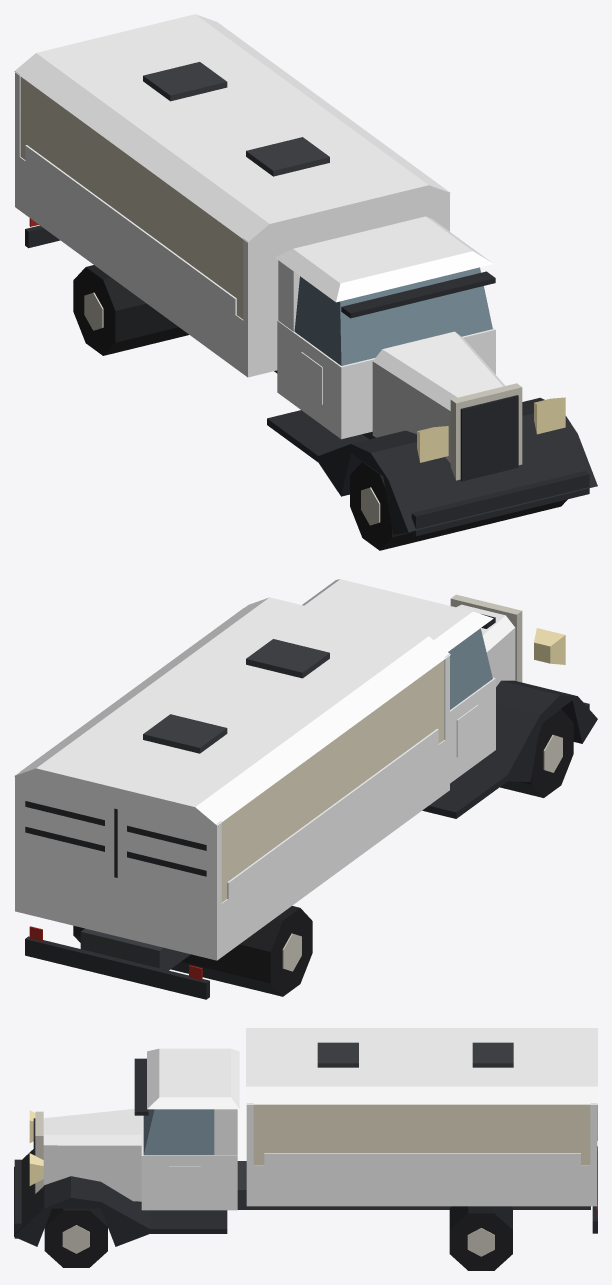
The model's file is reefer.glb.
3 renders of one model, top to bottom at view 1: azimuth 30°, elevation 25°; view 2: azimuth 150°, elevation 25°; view 3: azimuth 270°, elevation 25°, orthographic. The views are drawn at different scales.
Parts seen in each view (by area): view 1: model; view 2: model; view 3: model.
Boxes of the visible parts, x1,y1,x2,y2 form: model: (14, 14, 597, 550); model: (14, 579, 597, 999); model: (14, 1028, 597, 1270).
Bounding box in the file's own units: 2.58 × 2.92 × 8.51.
